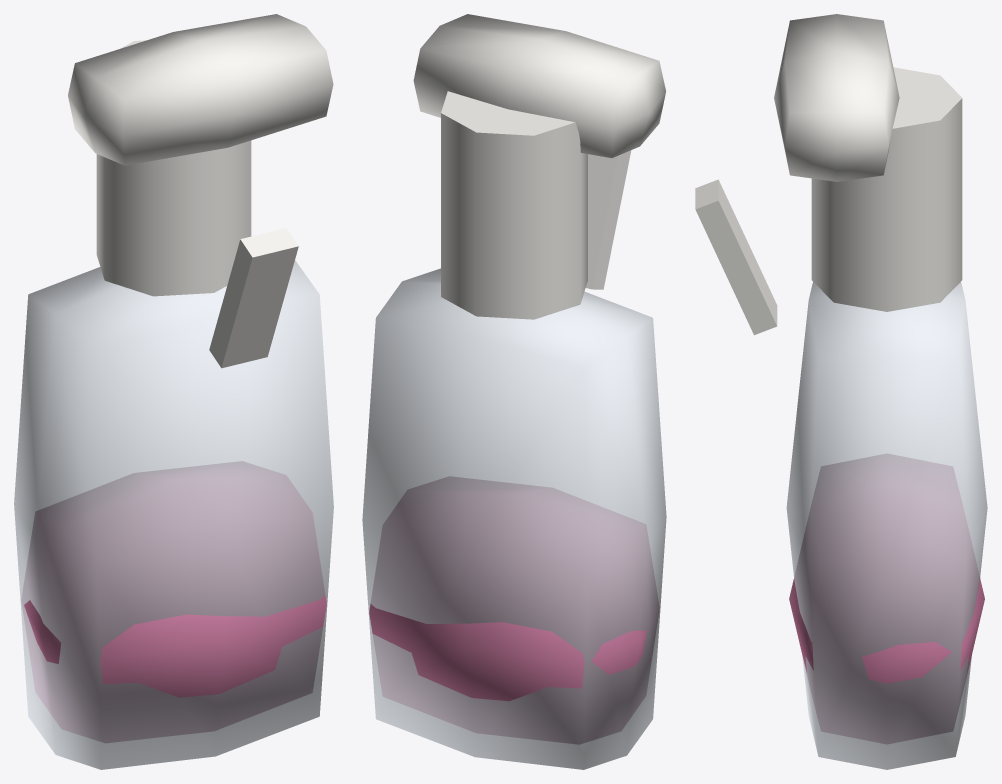
Rendered from spray_bottle.glb.
3 views of the same model, side by side, from view 1: azimuth 30°, elevation 25°; view 2: azimuth 150°, elevation 25°; view 3: azimuth 270°, elevation 25° (orthographic). The views are drawn at different scales.
Parts seen in each view (by area): view 1: root; view 2: root; view 3: root.
Part boxes in pixels (left/top/right/bottom): root: left=14, top=14, right=333, bottom=769; root: left=362, top=14, right=666, bottom=769; root: left=695, top=14, right=987, bottom=769.
Bounding box in the file's own units: 0.12 × 0.3 × 0.1163.
